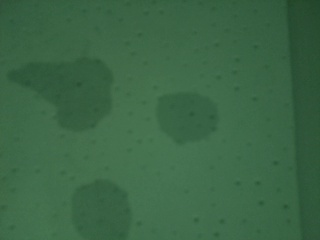Water_detected: (30, 48, 105, 115), (78, 185, 130, 232), (161, 98, 209, 136)
